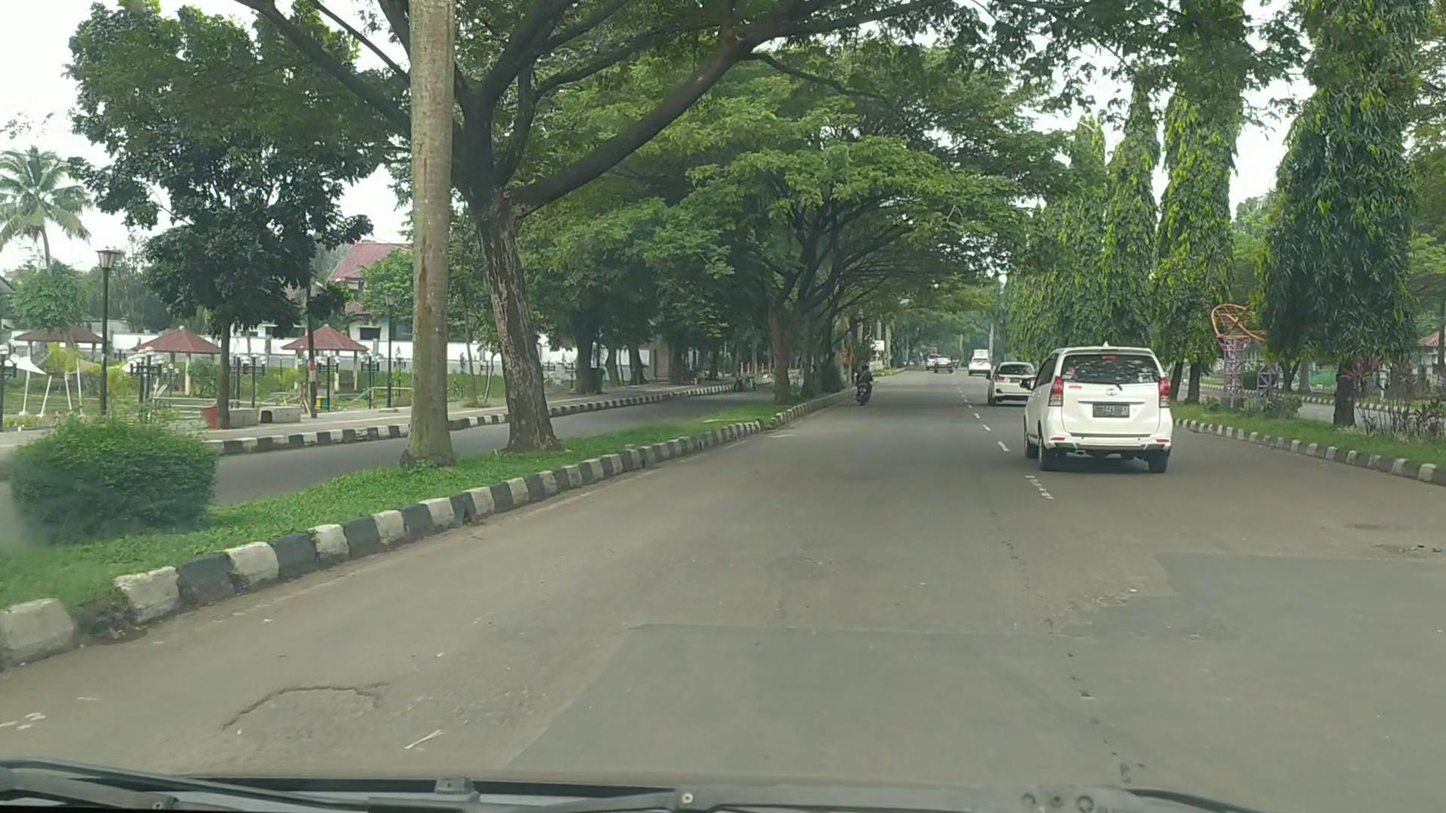pothole: (218, 684, 379, 739)
